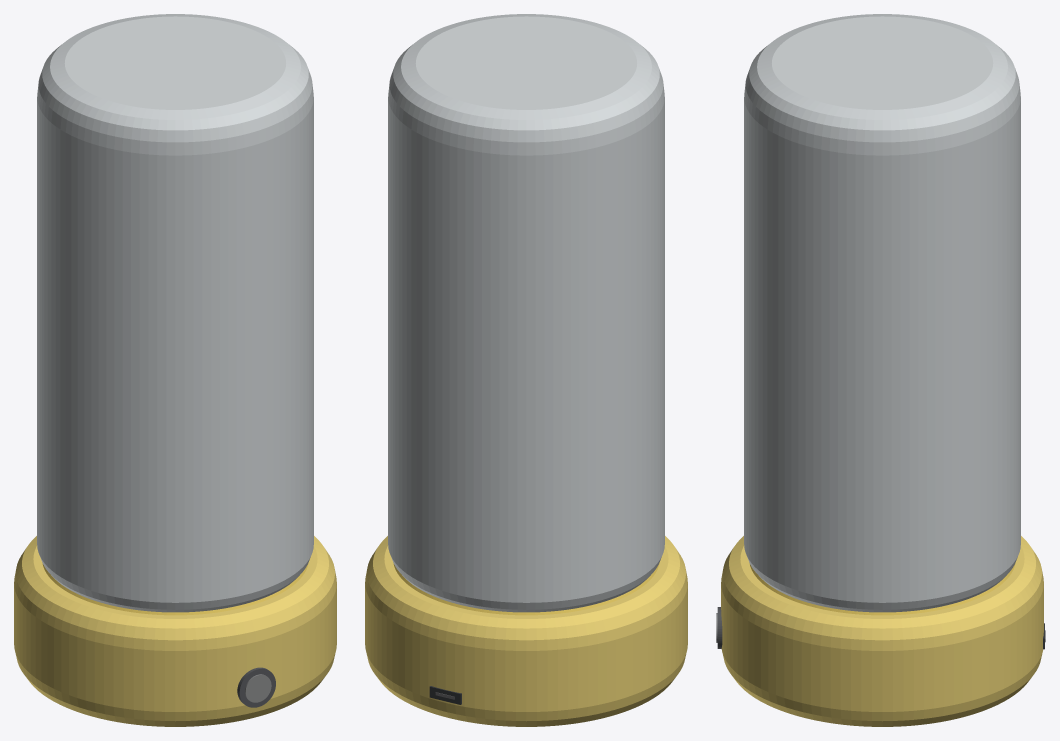
The model's file is auraglow-yellow.glb.
The picture shows the model from 3 angles, left to right: view 1: azimuth 30°, elevation 25°; view 2: azimuth 150°, elevation 25°; view 3: azimuth 270°, elevation 25°; orthographic projection.
Parts seen in each view (by area): view 1: SHELL_TRANSPARENT, BASE_BODY, BASE_TOP_PLATE, FRONT_BUTTON_RING, FRONT_BUTTON_FACE; view 2: SHELL_TRANSPARENT, BASE_BODY, BASE_TOP_PLATE; view 3: SHELL_TRANSPARENT, BASE_BODY, BASE_TOP_PLATE.
Boxes of the visible parts, x1,y1,x2,y2 form: SHELL_TRANSPARENT: [37, 14, 313, 612]; BASE_BODY: [14, 536, 336, 726]; BASE_TOP_PLATE: [42, 564, 308, 615]; FRONT_BUTTON_RING: [237, 667, 275, 707]; FRONT_BUTTON_FACE: [245, 674, 271, 702]; SHELL_TRANSPARENT: [388, 14, 664, 612]; BASE_BODY: [365, 536, 687, 726]; BASE_TOP_PLATE: [393, 564, 659, 615]; SHELL_TRANSPARENT: [744, 14, 1020, 612]; BASE_BODY: [721, 536, 1043, 726]; BASE_TOP_PLATE: [750, 563, 1015, 615].
Bounding box in the file's own units: 70 × 145 × 71.4.
